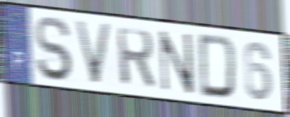6: (242, 40, 275, 104)
D: (197, 31, 238, 101)
N: (158, 29, 196, 97)
R: (114, 25, 157, 91)
S: (34, 15, 74, 84)
V: (72, 18, 114, 86)
